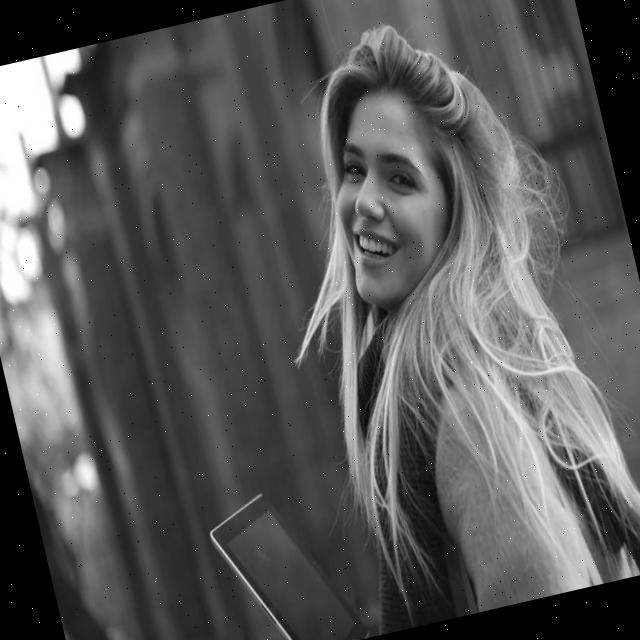Happiness: (309, 80, 466, 313)
